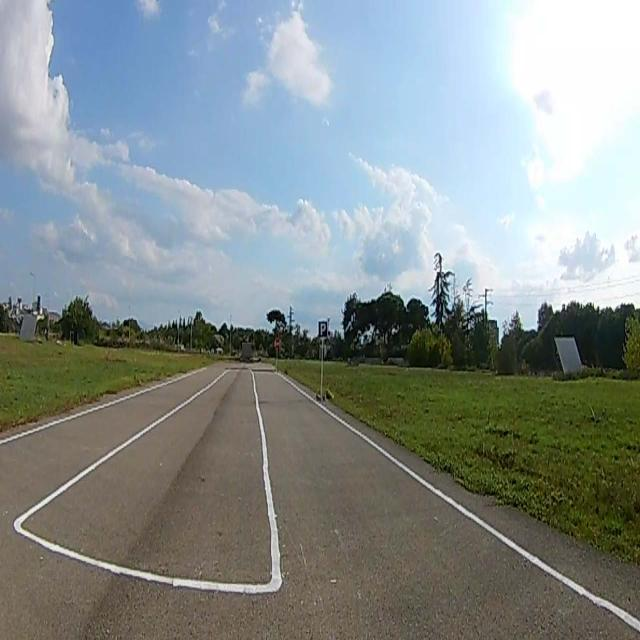park: (318, 322, 327, 338)
